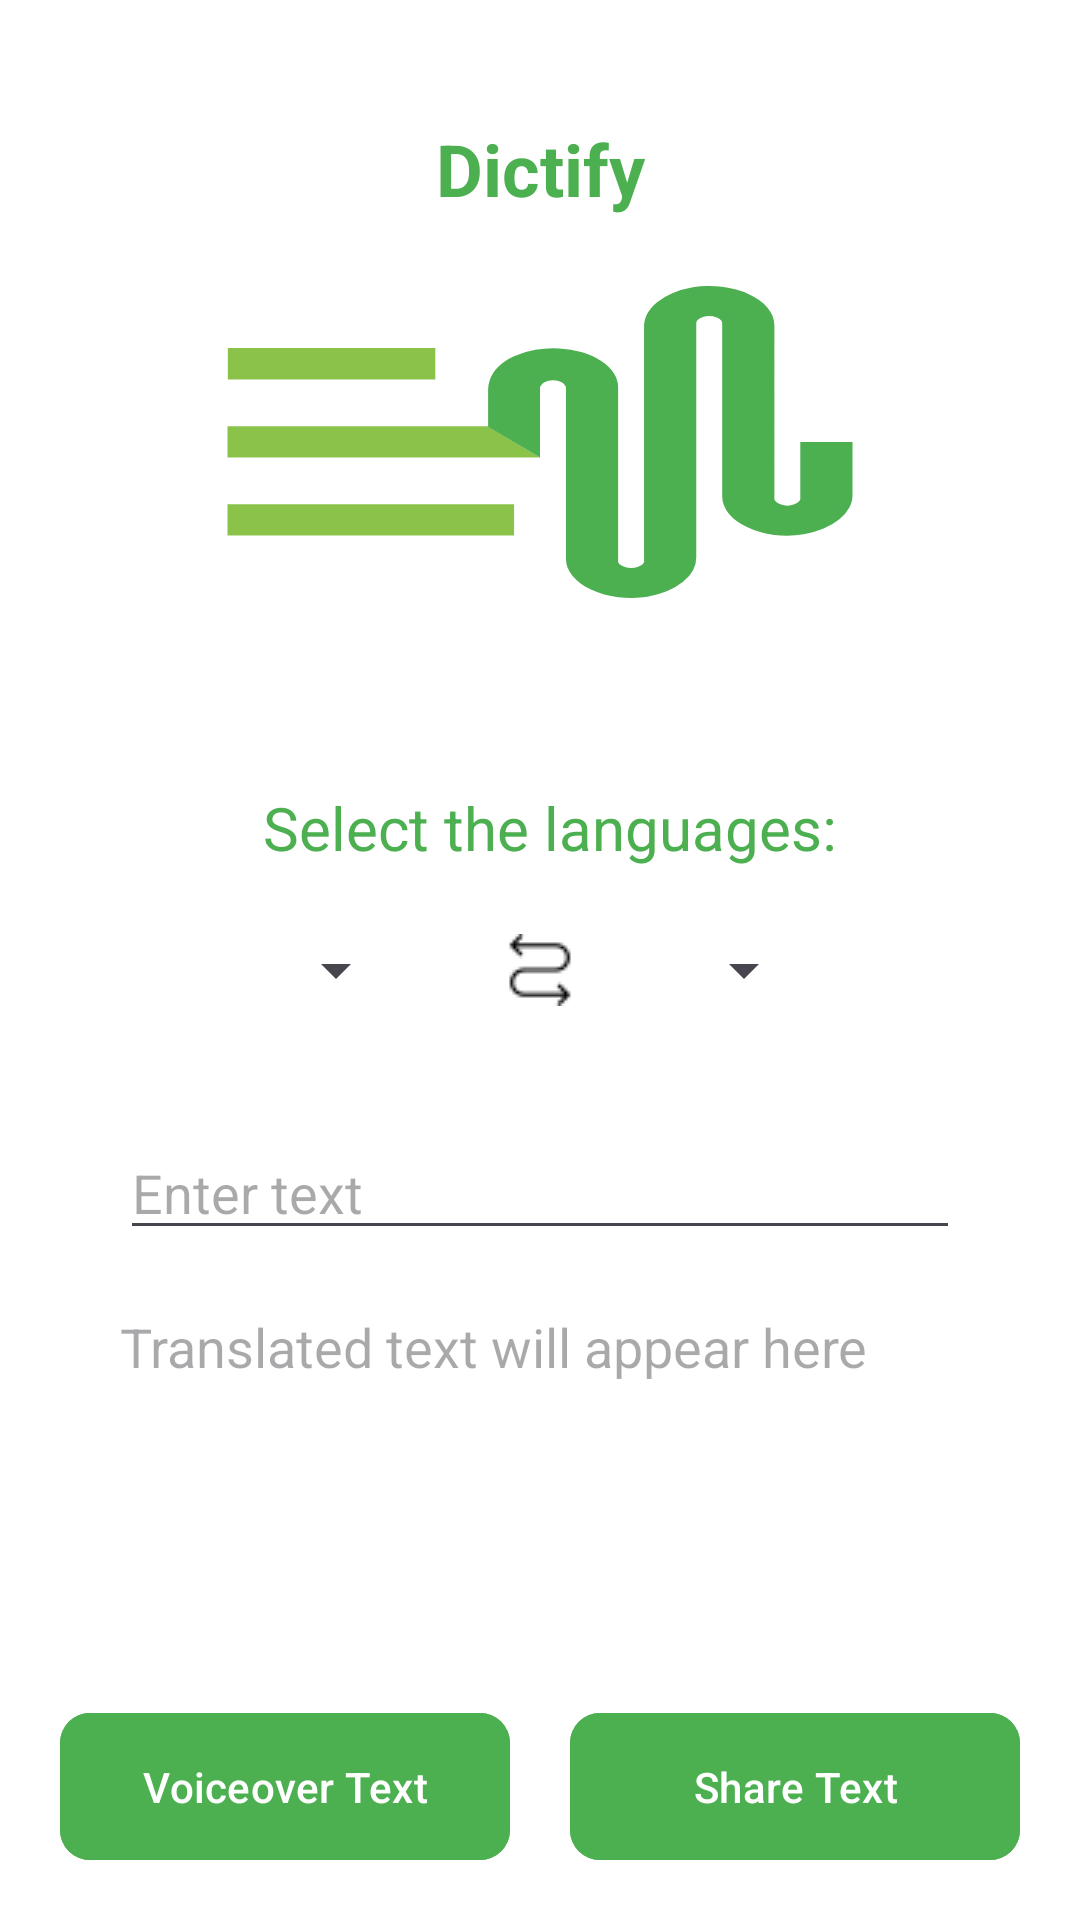

Icon bounding boxes for this 1080*1920 phone screenshot, format bbox=[x1, y1, x2, y2]:
swap: bbox=[509, 934, 571, 1006]
